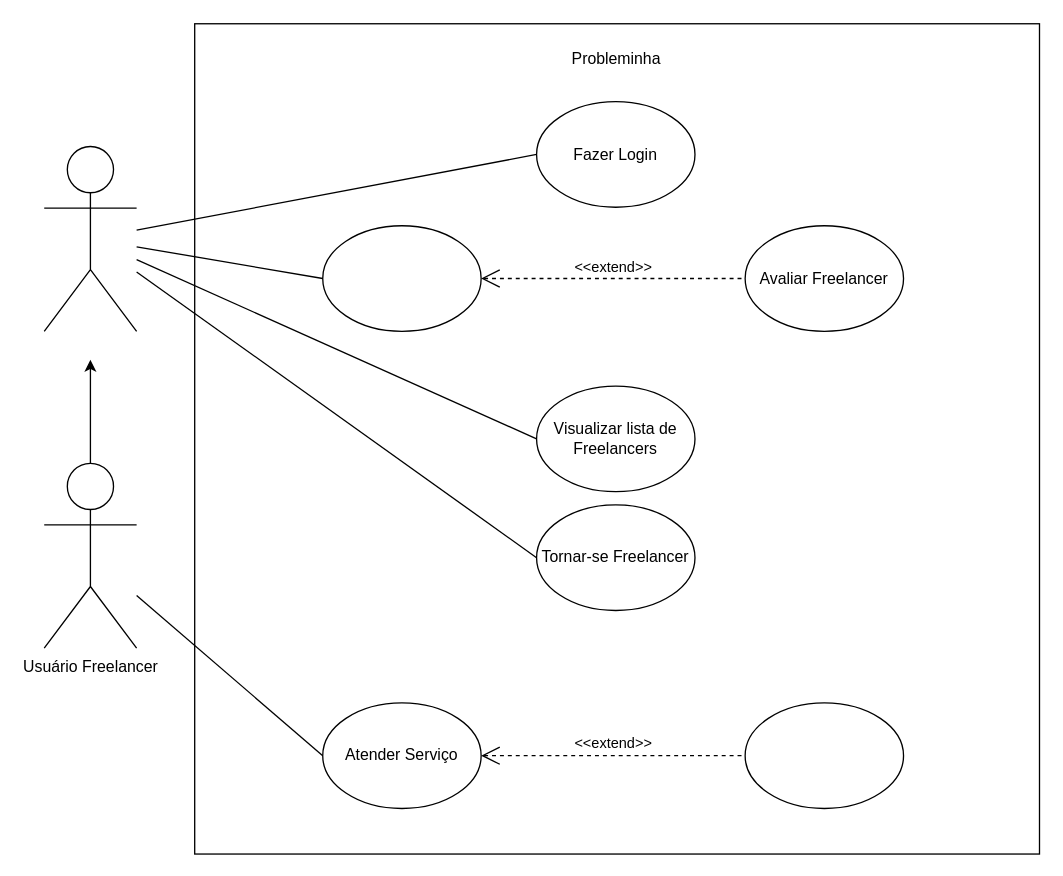
This 1063x876 diagram has some shape labels left out. Each missing label, with the centre of its shape:
Avaliar Cliente: the point at 824,755
Publicar Serviço: the point at 401,277
Usuário Cliente: the point at 90,238
